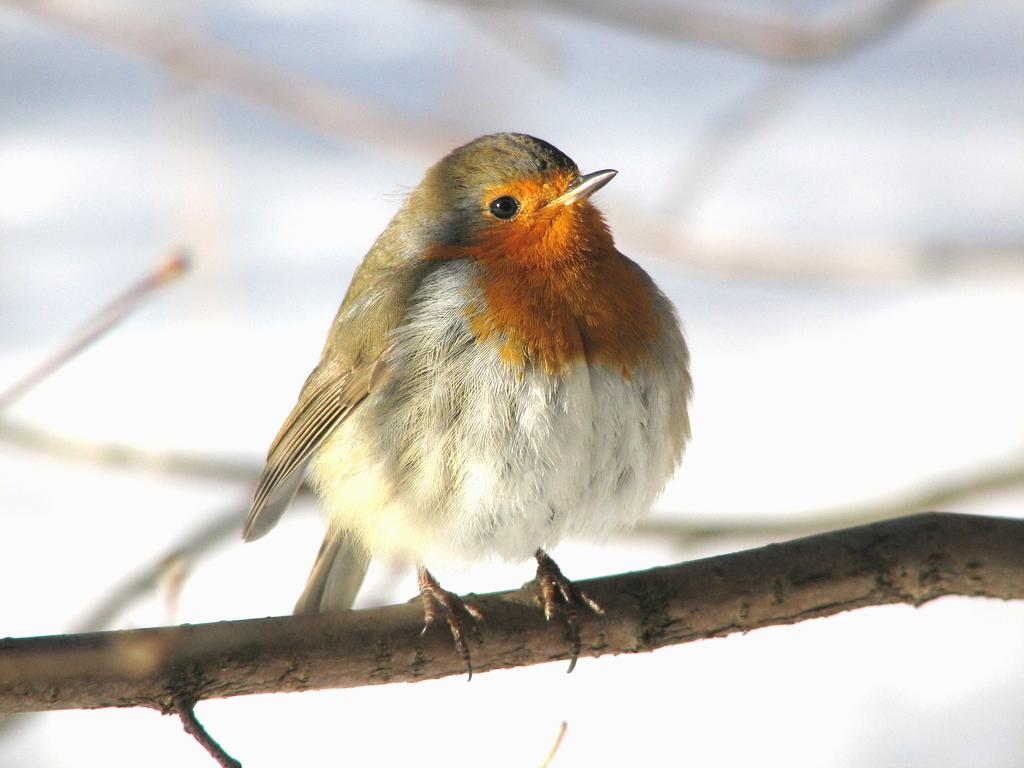ErithacusRubecula: (243, 131, 696, 681)
